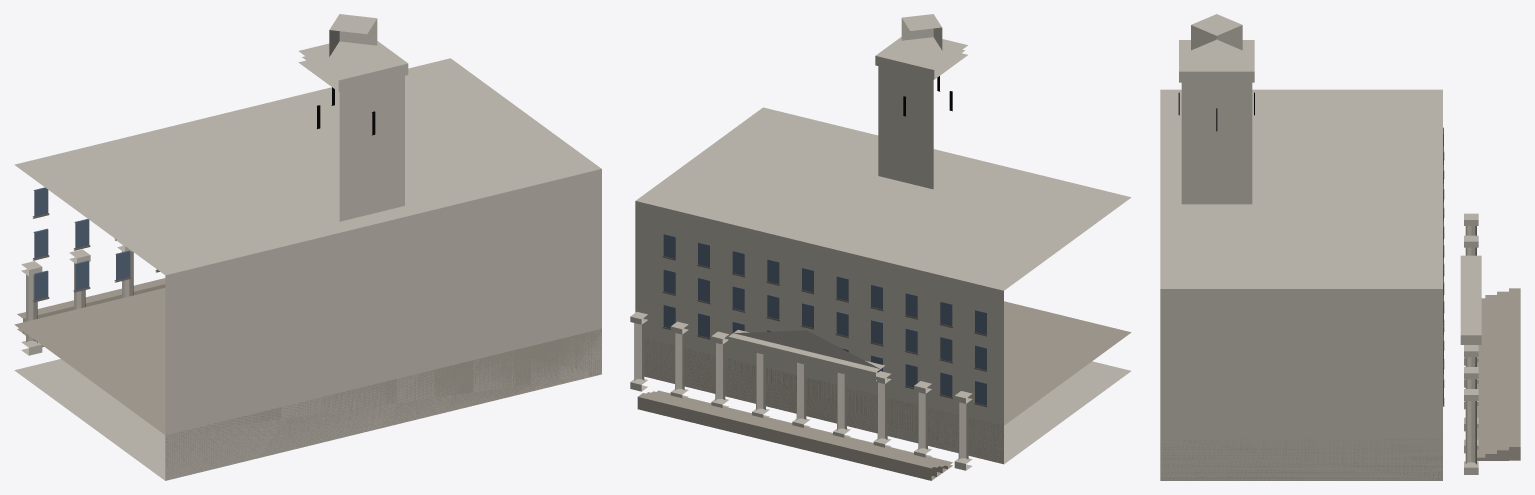
File: gov_courthouse.glb
3 views of the same model, side by side, from view 1: azimuth 30°, elevation 25°; view 2: azimuth 150°, elevation 25°; view 3: azimuth 270°, elevation 25° (orthographic). The views are drawn at different scales.
Visible parts, largest first — view 1: gov_courthouse; view 2: gov_courthouse; view 3: gov_courthouse.
Boxes of the visible parts, x1,y1,x2,y2 form: gov_courthouse: [14, 14, 601, 480]; gov_courthouse: [630, 14, 1131, 480]; gov_courthouse: [1160, 14, 1520, 480].
Bounding box in the file's own units: 40 × 33.4 × 30.6.
